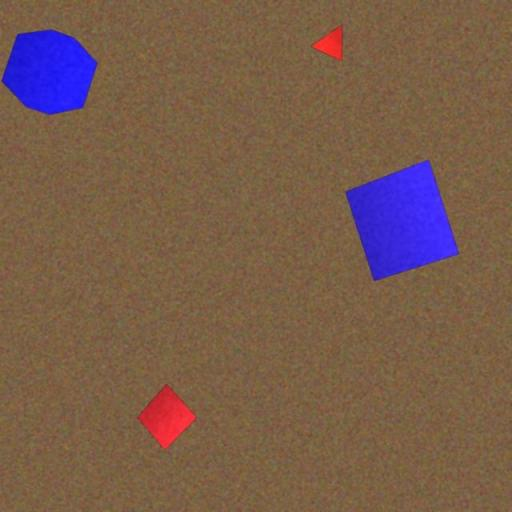BLUE_SQUARE: (345, 159, 460, 282)
RED_SQUARE: (136, 384, 198, 450)
